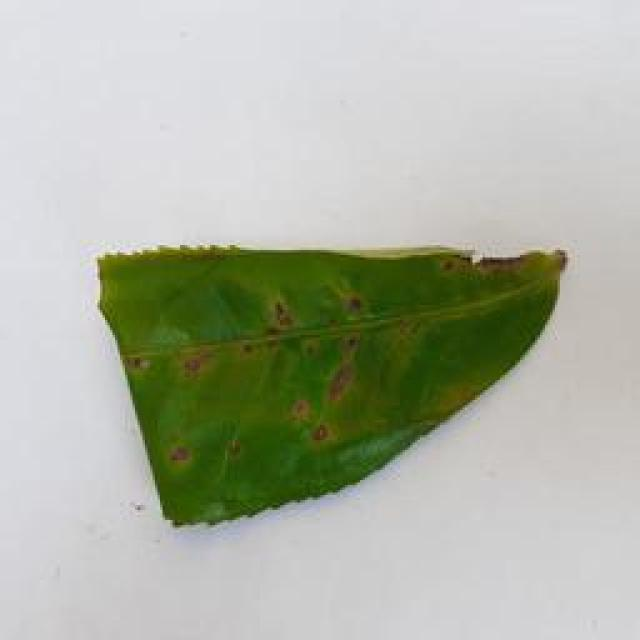Helopeltis: (89, 189, 595, 537)
